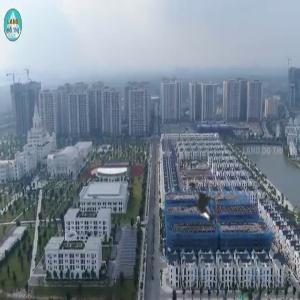drone: (155, 161, 248, 254)
